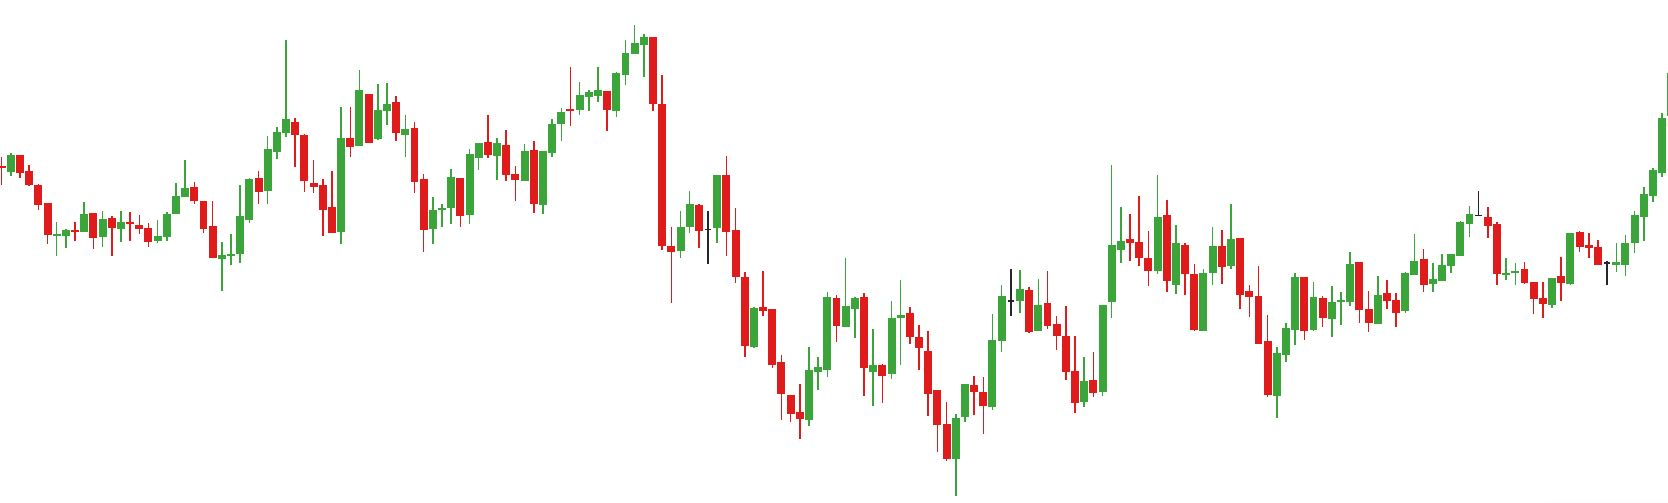buy: (796, 345, 964, 503), (319, 124, 446, 258), (103, 203, 236, 300)
